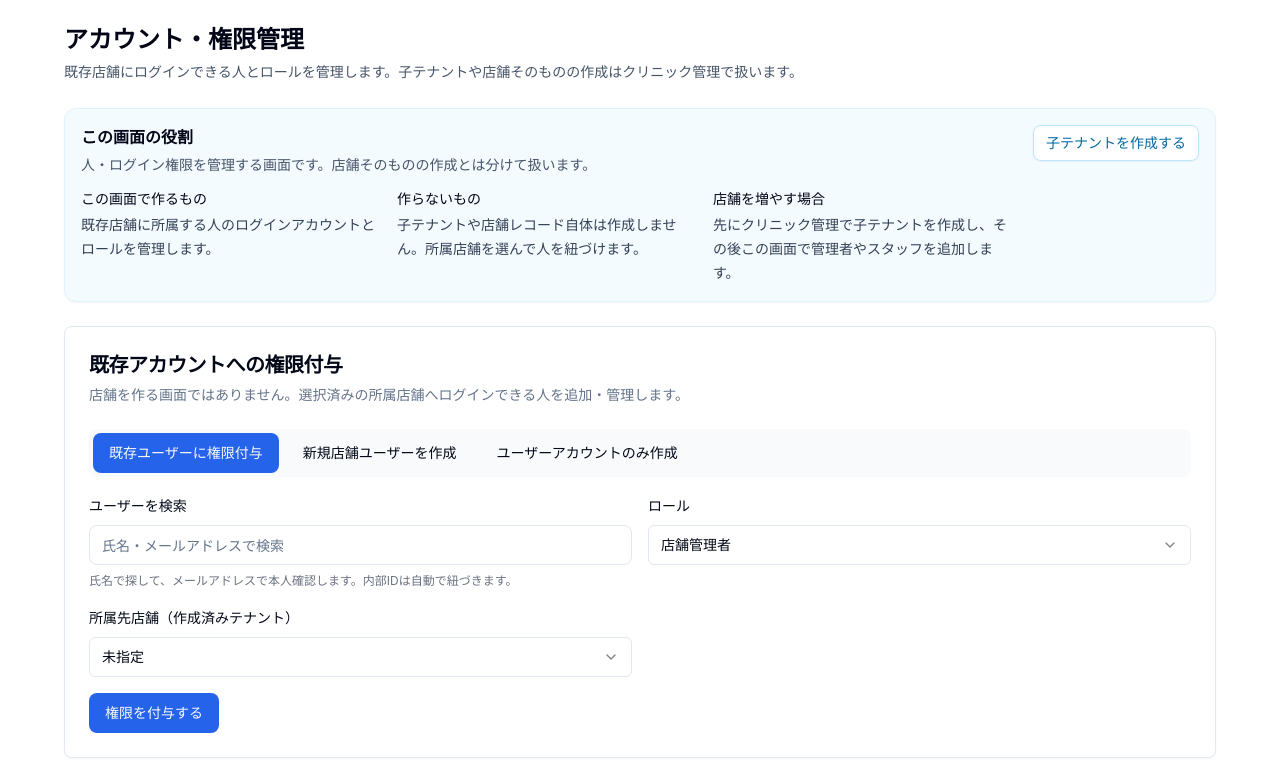
Test: AdminUsersPage › lets admin create an account-only user without adding it to the permission list
expect the button "既存ユーザーに権限付与" is shown: met, box [93,433,279,473]
expect the button "新規店舗ユーザーを作成" is shown: met, box [287,433,472,473]
Click the button "ユーザーアカウントのみ作成". click: (587, 453)
box: [480,433,694,473]
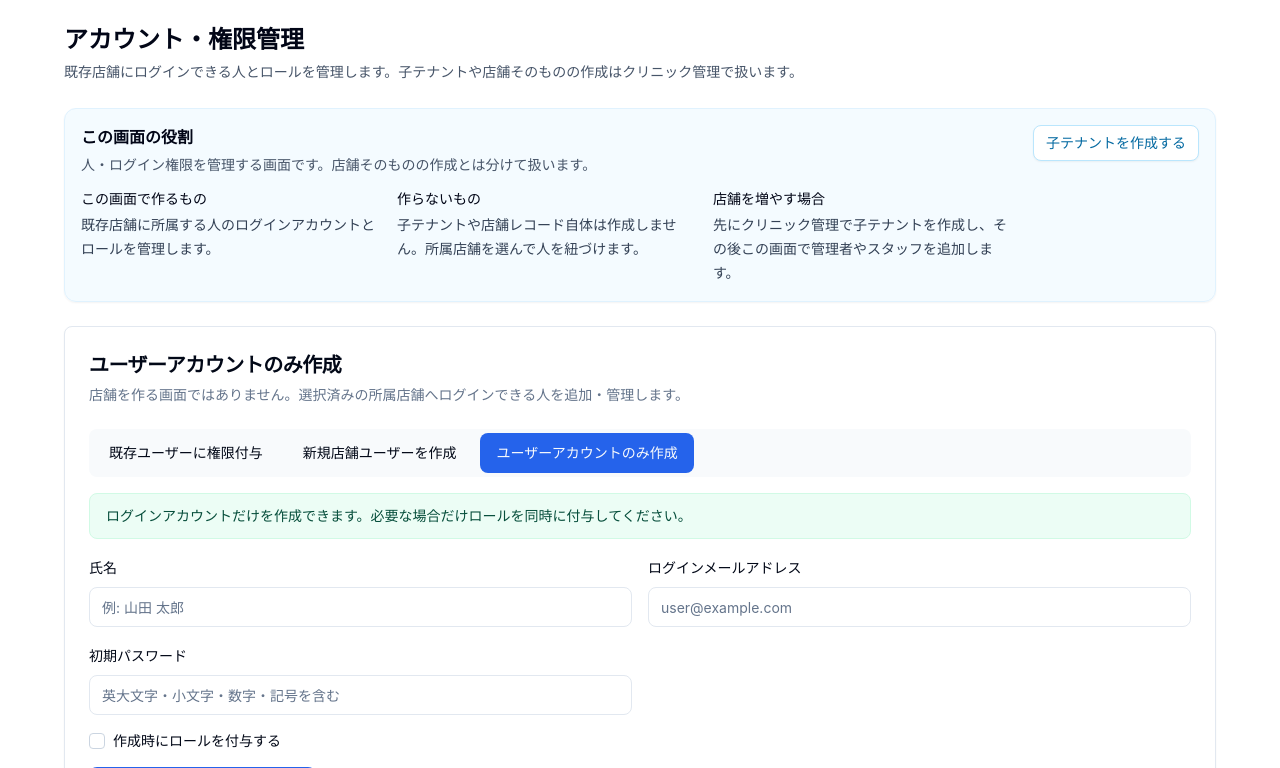
expect the label with id "admin-user-role" is gone: met
expect the label with id "admin-user-clinic" is gone: met
Type "未付与 太郎" into the field labelled "氏名". click: (360, 607)
box: [89,587,632,627]
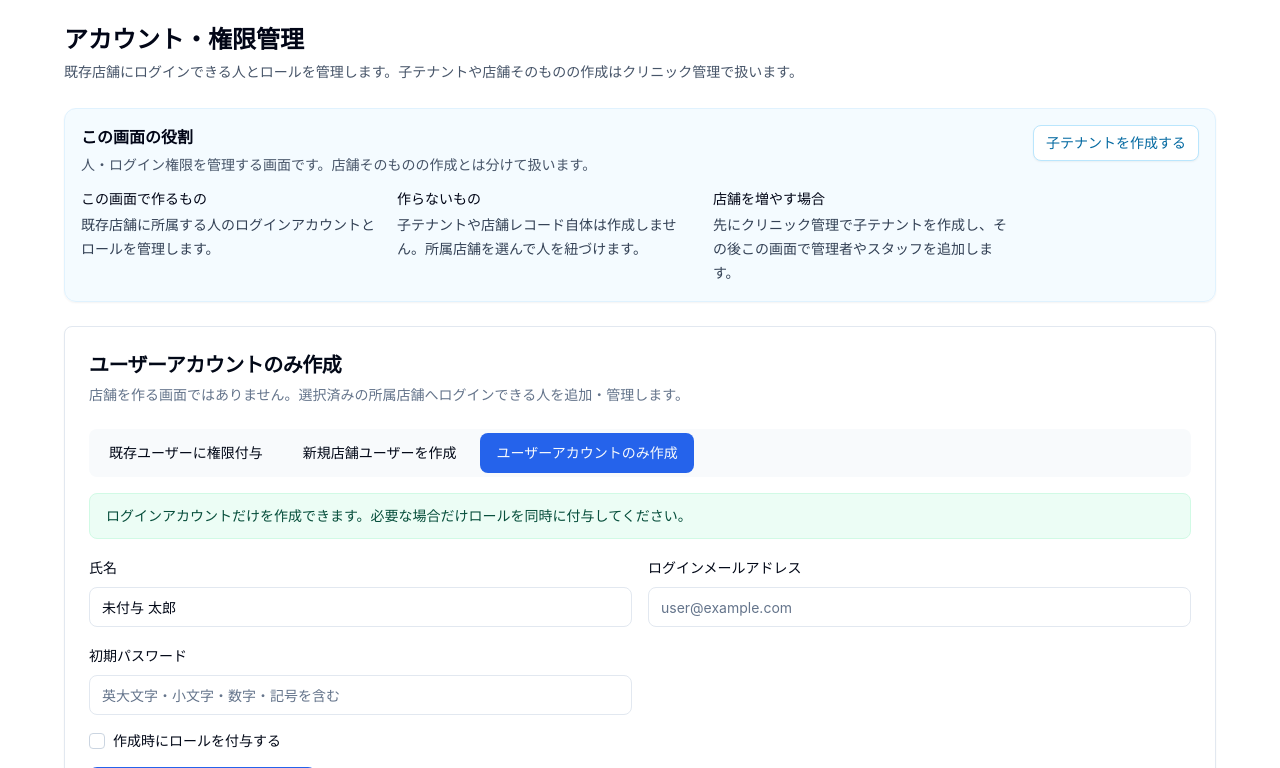
Type "PROFILE-ONLY@example.com" into the field labelled "ログインメールアドレス". click: (920, 607)
box: [648,587,1191,627]
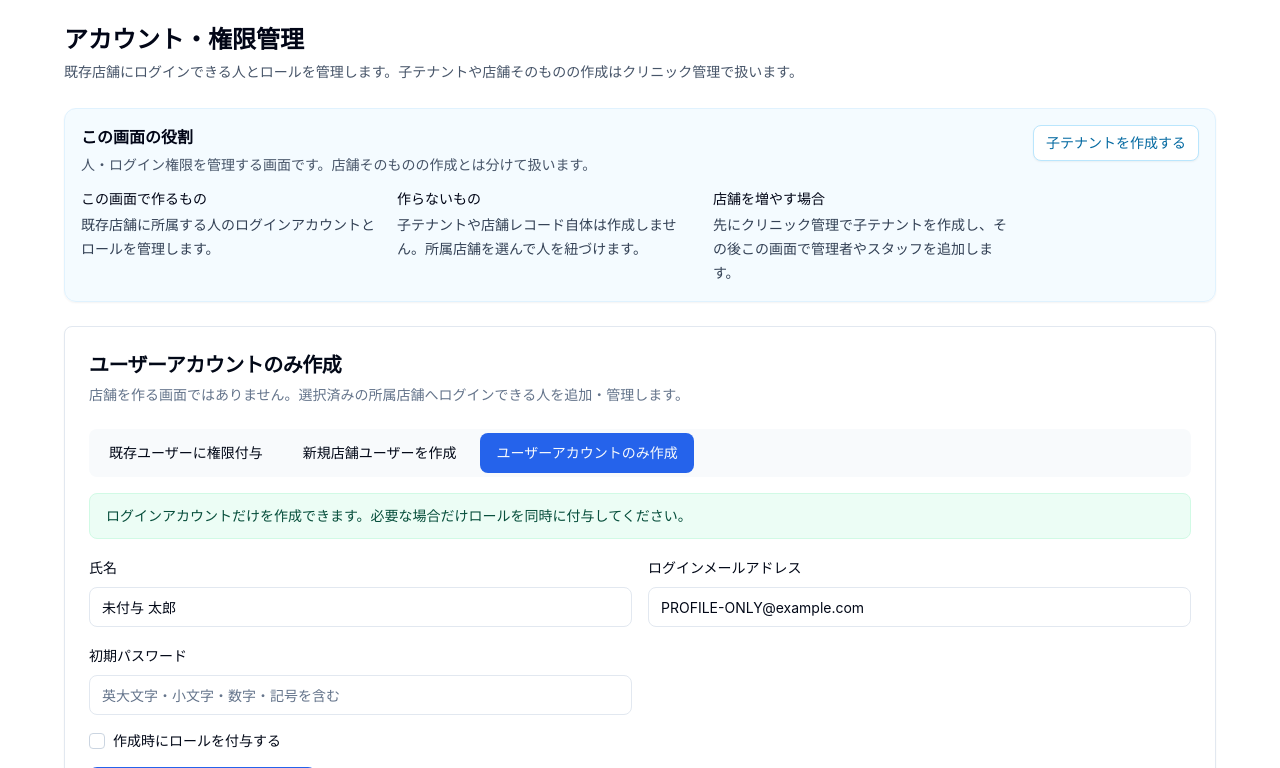
Type "SafePass123!" into the password field labelled "初期パスワード". click: (360, 695)
box: [89,675,632,715]
(page scrolled)
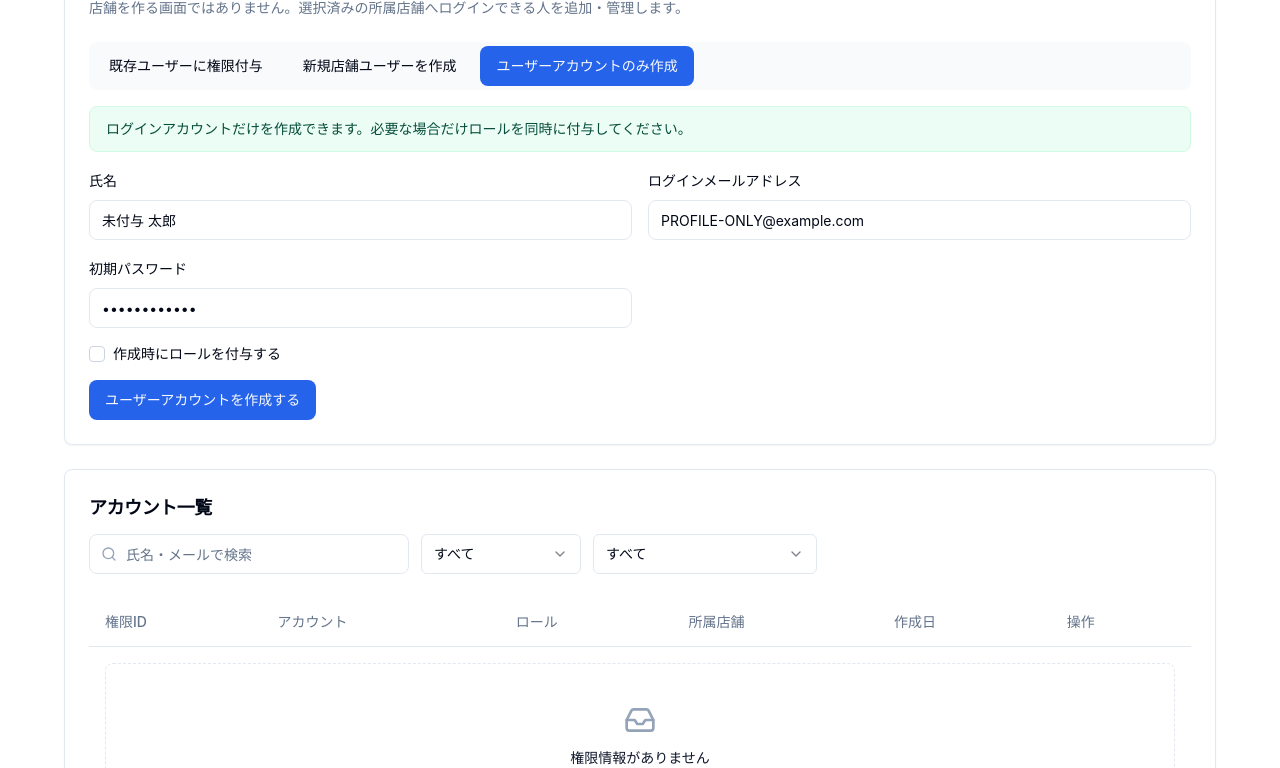
Click the button "ユーザーアカウントを作成する". click: (203, 400)
box: [89,380,316,420]
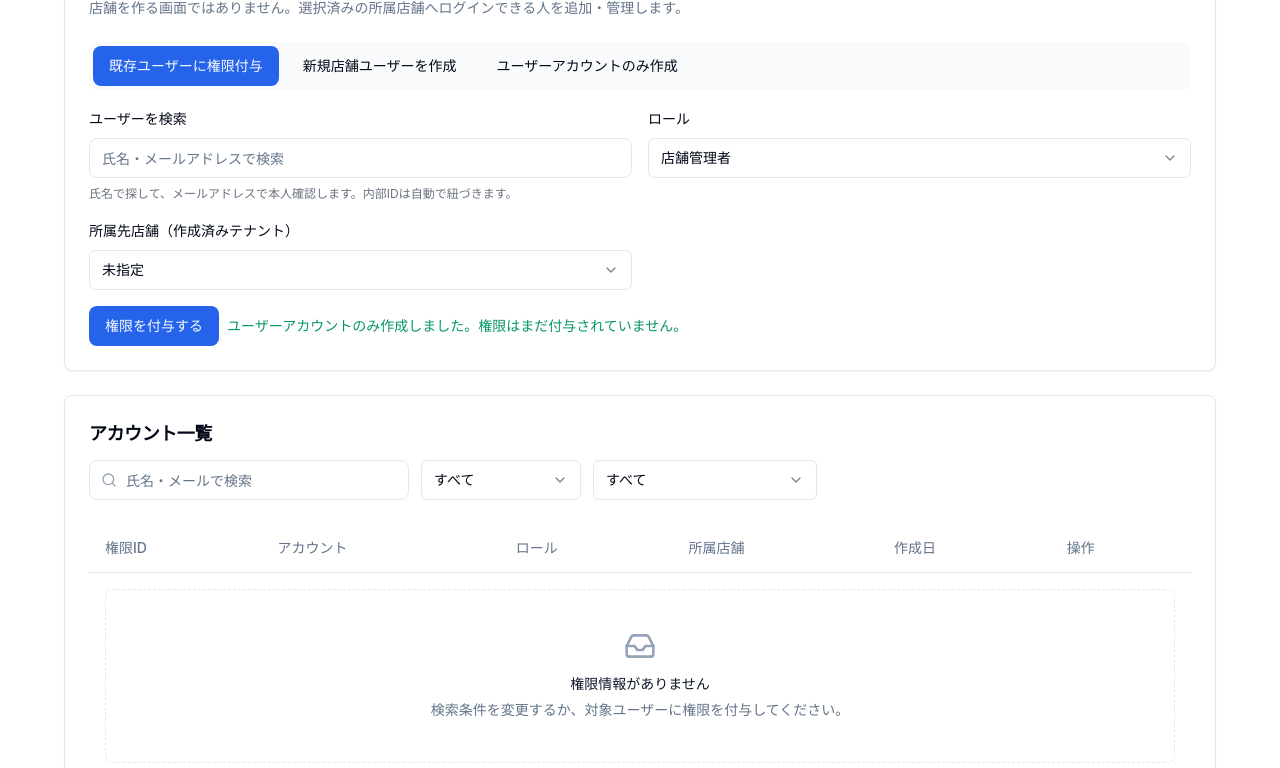
expect the text "ユーザーアカウントのみ作成しました。権限はまだ付与されていません。" is shown: met, box [227,316,687,336]
